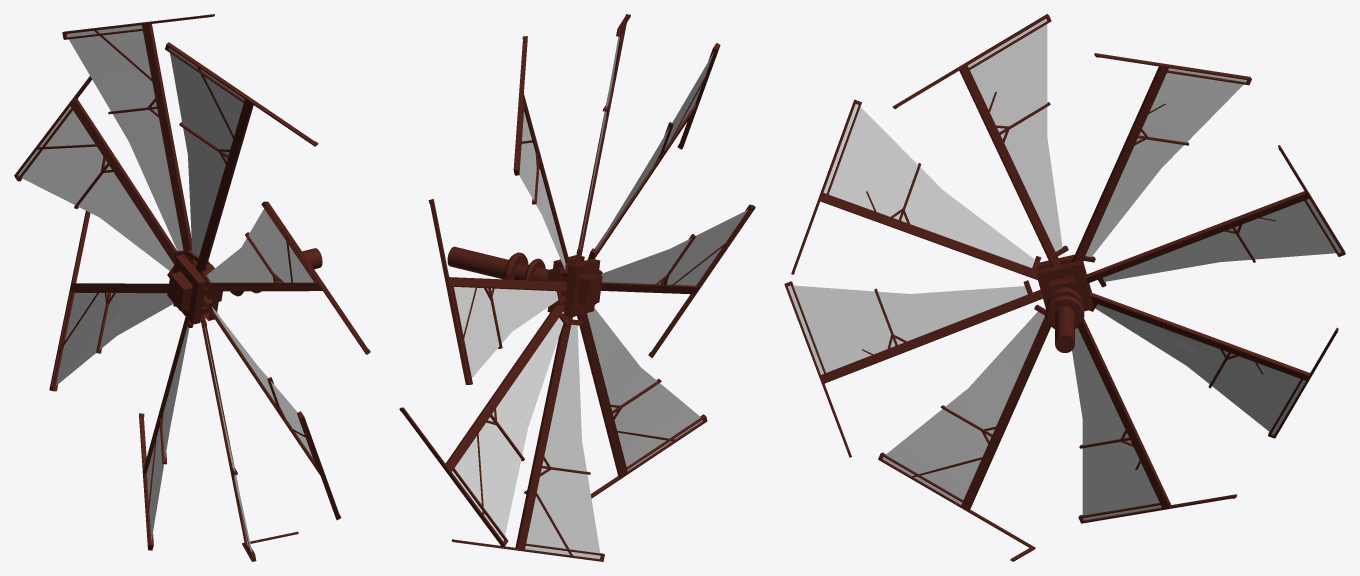
The model's file is spinnybit.fbx.
The picture shows the model from 3 angles, left to right: view 1: azimuth 30°, elevation 25°; view 2: azimuth 150°, elevation 25°; view 3: azimuth 270°, elevation 25°; orthographic projection. The views are drawn at different scales.
Parts seen in each view (by area): view 1: TwirlBit; view 2: TwirlBit; view 3: TwirlBit.
Part boxes in pixels (x1=…): TwirlBit: x1=14, y1=14, x2=370, y2=561; TwirlBit: x1=399, y1=14, x2=755, y2=561; TwirlBit: x1=784, y1=14, x2=1345, y2=561.
Size of the model in its own units: 1365 by 4235 by 4235.
